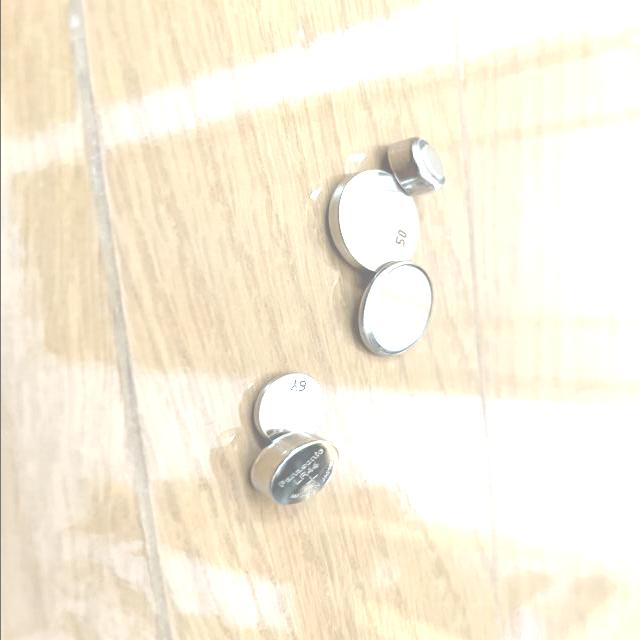COIN: (326, 168, 421, 275), (352, 260, 434, 360), (251, 432, 345, 507), (249, 372, 324, 442), (380, 137, 450, 197)
